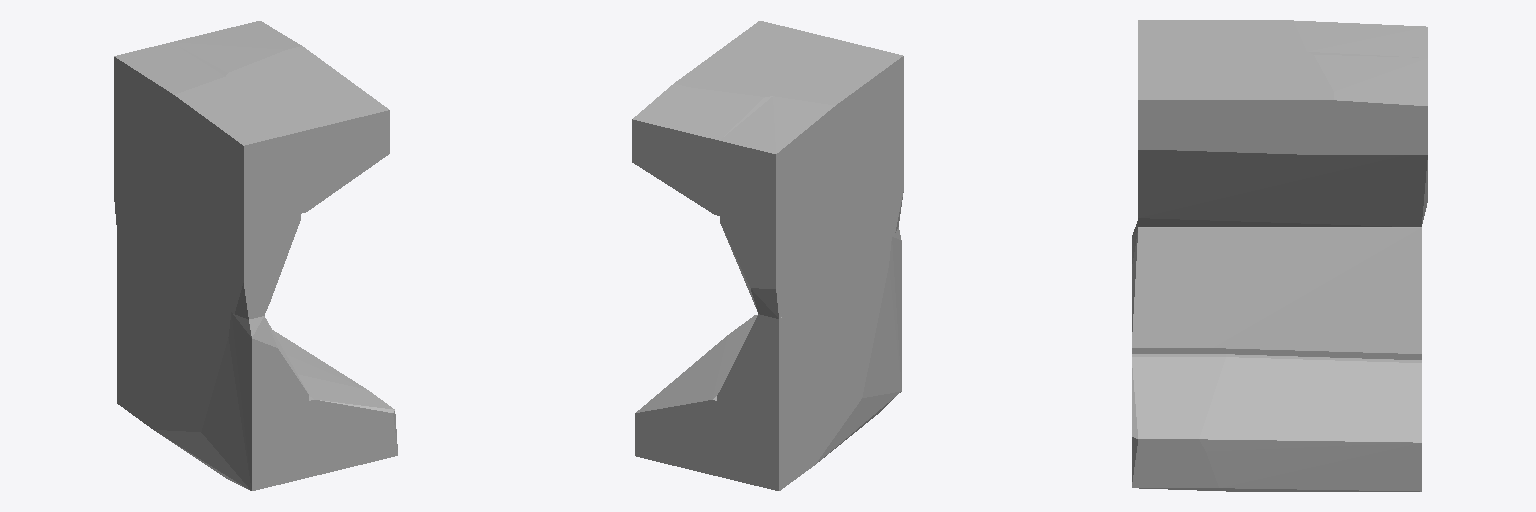
robot.urdf — root:
<robot name="root">
  <link name="link_thingiverse~arch_1931119_convex_piece_0">
    <inertial>
      <origin rpy="0 0 0" xyz="0 0 0"/>
      <mass value="1.31E-01"/>
      <inertia ixx="1.63E-04" ixy="1.26E-07" ixz="2.35E-05" iyy="1.28E-04" iyz="1.32E-06" izz="5.52E-05"/>
    </inertial>
    <visual>
      <origin rpy="0 0 0" xyz="0 0 0"/>
      <geometry>
        <mesh filename="thingiverse~arch_1931119_convex_piece_0.obj" scale="1.0000E+00 1.0000E+00 1.0000E+00"/>
      </geometry>
      <material name="">
        <color rgba="7.50E-01 7.50E-01 7.50E-01 1"/>
      </material>
    </visual>
    <collision>
      <origin rpy="0 0 0" xyz="0 0 0"/>
      <geometry>
        <mesh filename="thingiverse~arch_1931119_convex_piece_0.obj" scale="1.0000E+00 1.0000E+00 1.0000E+00"/>
      </geometry>
    </collision>
  </link>
  <link name="link_thingiverse~arch_1931119_convex_piece_1">
    <inertial>
      <origin rpy="0 0 0" xyz="0 0 0"/>
      <mass value="8.11E-02"/>
      <inertia ixx="1.53E-04" ixy="-1.89E-06" ixz="-4.51E-05" iyy="1.45E-04" iyz="3.74E-06" izz="4.81E-05"/>
    </inertial>
    <visual>
      <origin rpy="0 0 0" xyz="0 0 0"/>
      <geometry>
        <mesh filename="thingiverse~arch_1931119_convex_piece_1.obj" scale="1.0000E+00 1.0000E+00 1.0000E+00"/>
      </geometry>
      <material name="">
        <color rgba="7.50E-01 7.50E-01 7.50E-01 1"/>
      </material>
    </visual>
    <collision>
      <origin rpy="0 0 0" xyz="0 0 0"/>
      <geometry>
        <mesh filename="thingiverse~arch_1931119_convex_piece_1.obj" scale="1.0000E+00 1.0000E+00 1.0000E+00"/>
      </geometry>
    </collision>
  </link>
  <joint name="link_thingiverse~arch_1931119_convex_piece_1_joint" type="fixed">
    <origin rpy="0 0 0" xyz="0 0 0"/>
    <parent link="link_thingiverse~arch_1931119_convex_piece_0"/>
    <child link="link_thingiverse~arch_1931119_convex_piece_1"/>
  </joint>
  <link name="link_thingiverse~arch_1931119_convex_piece_2">
    <inertial>
      <origin rpy="0 0 0" xyz="0 0 0"/>
      <mass value="1.23E-01"/>
      <inertia ixx="1.53E-04" ixy="-4.52E-07" ixz="-2.47E-05" iyy="1.21E-04" iyz="1.12E-06" izz="5.30E-05"/>
    </inertial>
    <visual>
      <origin rpy="0 0 0" xyz="0 0 0"/>
      <geometry>
        <mesh filename="thingiverse~arch_1931119_convex_piece_2.obj" scale="1.0000E+00 1.0000E+00 1.0000E+00"/>
      </geometry>
      <material name="">
        <color rgba="7.50E-01 7.50E-01 7.50E-01 1"/>
      </material>
    </visual>
    <collision>
      <origin rpy="0 0 0" xyz="0 0 0"/>
      <geometry>
        <mesh filename="thingiverse~arch_1931119_convex_piece_2.obj" scale="1.0000E+00 1.0000E+00 1.0000E+00"/>
      </geometry>
    </collision>
  </link>
  <joint name="link_thingiverse~arch_1931119_convex_piece_2_joint" type="fixed">
    <origin rpy="0 0 0" xyz="0 0 0"/>
    <parent link="link_thingiverse~arch_1931119_convex_piece_1"/>
    <child link="link_thingiverse~arch_1931119_convex_piece_2"/>
  </joint>
  <link name="link_thingiverse~arch_1931119_convex_piece_3">
    <inertial>
      <origin rpy="0 0 0" xyz="0 0 0"/>
      <mass value="8.51E-02"/>
      <inertia ixx="1.60E-04" ixy="7.13E-07" ixz="4.31E-05" iyy="1.49E-04" iyz="1.47E-06" izz="4.76E-05"/>
    </inertial>
    <visual>
      <origin rpy="0 0 0" xyz="0 0 0"/>
      <geometry>
        <mesh filename="thingiverse~arch_1931119_convex_piece_3.obj" scale="1.0000E+00 1.0000E+00 1.0000E+00"/>
      </geometry>
      <material name="">
        <color rgba="7.50E-01 7.50E-01 7.50E-01 1"/>
      </material>
    </visual>
    <collision>
      <origin rpy="0 0 0" xyz="0 0 0"/>
      <geometry>
        <mesh filename="thingiverse~arch_1931119_convex_piece_3.obj" scale="1.0000E+00 1.0000E+00 1.0000E+00"/>
      </geometry>
    </collision>
  </link>
  <joint name="link_thingiverse~arch_1931119_convex_piece_3_joint" type="fixed">
    <origin rpy="0 0 0" xyz="0 0 0"/>
    <parent link="link_thingiverse~arch_1931119_convex_piece_2"/>
    <child link="link_thingiverse~arch_1931119_convex_piece_3"/>
  </joint>
</robot>

--- Render facts (derived) ---
Views: 3 orthographic renders of the robot side by side, from view 1: azimuth 30°, elevation 25°; view 2: azimuth 150°, elevation 25°; view 3: azimuth 270°, elevation 25°.
Robot: root — 4 links, 3 joints (3 fixed); root link link_thingiverse~arch_1931119_convex_piece_0; default pose: every joint at zero.
Links seen in each view (by area): view 1: link_thingiverse~arch_1931119_convex_piece_2, link_thingiverse~arch_1931119_convex_piece_0, link_thingiverse~arch_1931119_convex_piece_3, link_thingiverse~arch_1931119_convex_piece_1; view 2: link_thingiverse~arch_1931119_convex_piece_2, link_thingiverse~arch_1931119_convex_piece_0, link_thingiverse~arch_1931119_convex_piece_3, link_thingiverse~arch_1931119_convex_piece_1; view 3: link_thingiverse~arch_1931119_convex_piece_1, link_thingiverse~arch_1931119_convex_piece_0, link_thingiverse~arch_1931119_convex_piece_2, link_thingiverse~arch_1931119_convex_piece_3.
Boxes of the visible links, x1,y1,x2,y2 form: link_thingiverse~arch_1931119_convex_piece_2: (114,42,300,319); link_thingiverse~arch_1931119_convex_piece_0: (117,229,308,490); link_thingiverse~arch_1931119_convex_piece_3: (172,21,389,213); link_thingiverse~arch_1931119_convex_piece_1: (273,330,397,476); link_thingiverse~arch_1931119_convex_piece_2: (720,42,903,318); link_thingiverse~arch_1931119_convex_piece_0: (717,227,901,490); link_thingiverse~arch_1931119_convex_piece_3: (632,21,845,215); link_thingiverse~arch_1931119_convex_piece_1: (635,315,757,475); link_thingiverse~arch_1931119_convex_piece_1: (1132,354,1421,491); link_thingiverse~arch_1931119_convex_piece_0: (1132,221,1421,359); link_thingiverse~arch_1931119_convex_piece_2: (1138,20,1427,226); link_thingiverse~arch_1931119_convex_piece_3: (1138,52,1427,154).
Size in the robot's own frame: 0.0437 by 0.0663 by 0.0964 metres.
Meshes: 4 distinct files referenced, 4 mesh visuals loaded (4 OBJ).
